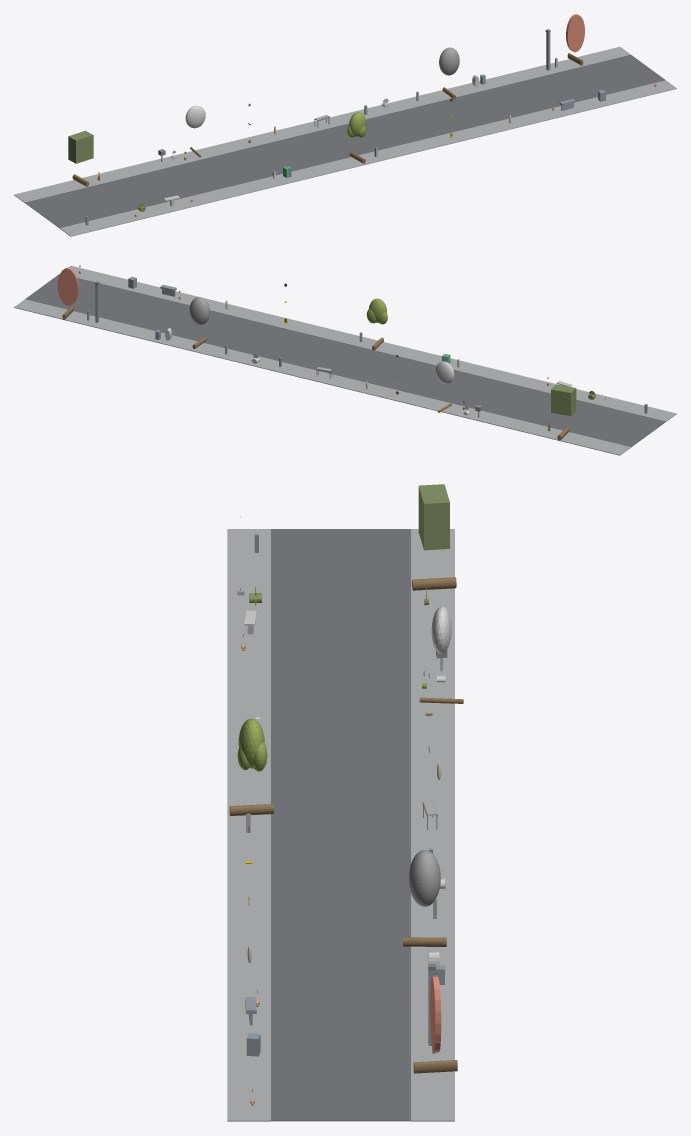
3 renders of one model, top to bottom at view 1: azimuth 30°, elevation 25°; view 2: azimuth 150°, elevation 25°; view 3: azimuth 270°, elevation 25°, orthographic. The views are drawn at different scales.
Parts seen in each view (by area): view 1: road_slab, sidewalk_left, sidewalk_right, inst_0012, inst_0016, inst_0015, inst_0014, inst_0013; view 2: road_slab, sidewalk_right, sidewalk_left, inst_0012, inst_0016, inst_0015, inst_0014, inst_0013; view 3: road_slab, sidewalk_left, sidewalk_right, inst_0012, inst_0015, inst_0014, inst_0016, inst_0013.
Part boxes in pixels (x1,y1,x2,y2): road_slab: (25, 54, 665, 228); sidewalk_left: (60, 80, 676, 236); sidewalk_right: (14, 46, 630, 202); inst_0012: (68, 130, 93, 186); inst_0016: (566, 14, 584, 65); inst_0015: (439, 47, 459, 99); inst_0014: (347, 112, 366, 163); inst_0013: (185, 105, 205, 157); road_slab: (25, 274, 665, 447); sidewalk_right: (14, 299, 630, 455); sidewalk_left: (68, 265, 676, 421); inst_0012: (551, 384, 576, 440); inst_0016: (57, 267, 78, 319); inst_0015: (189, 297, 209, 349); inst_0014: (366, 298, 387, 350); inst_0013: (435, 361, 454, 412); road_slab: (271, 529, 410, 1121); sidewalk_left: (227, 529, 270, 1121); sidewalk_right: (411, 529, 454, 1121); inst_0012: (412, 484, 456, 590); inst_0015: (403, 850, 446, 946); inst_0014: (229, 718, 273, 815); inst_0016: (413, 976, 457, 1073); inst_0013: (419, 606, 463, 703).
Bounding box in the file's own units: 80 × 6.08 × 13.5.
